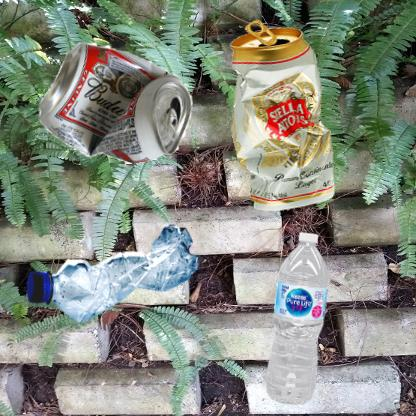botella: (213, 213, 389, 416), (10, 213, 233, 348)
lata: (10, 10, 233, 187), (213, 10, 354, 236)
